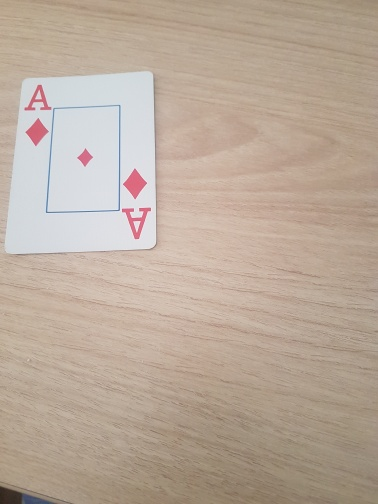ace: (3, 72, 155, 255)
